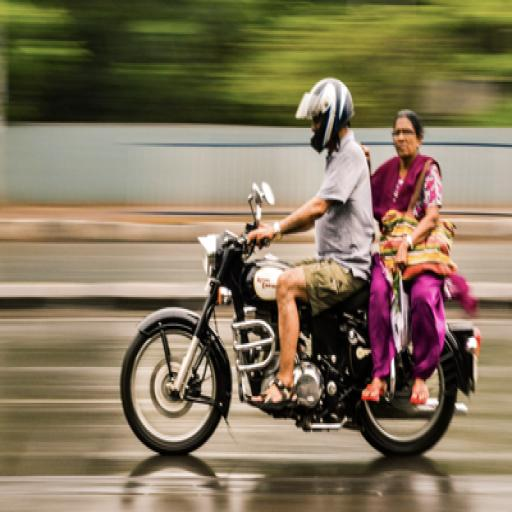With Helmet: (294, 75, 354, 155)
Without Helmet: (390, 108, 422, 160)
